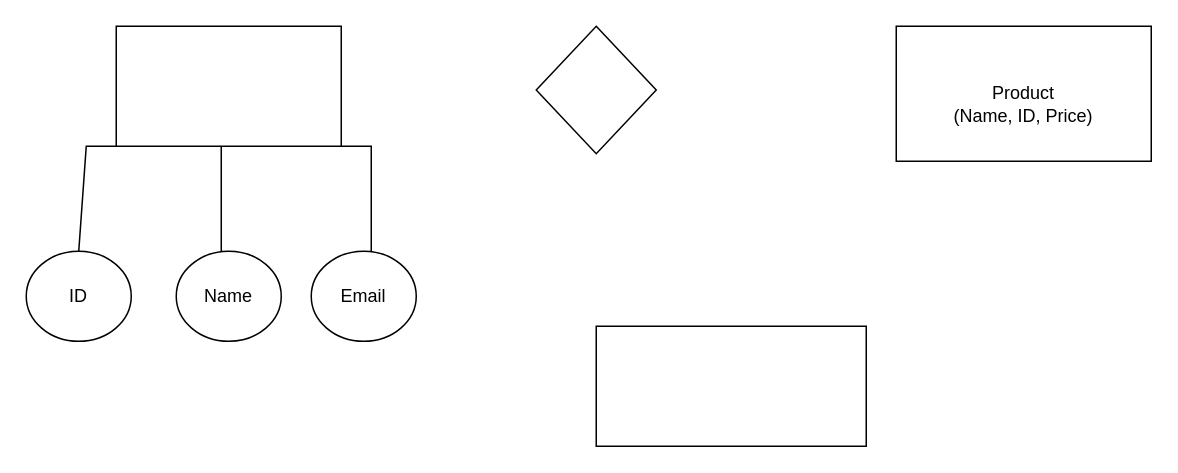
Some shapes in this 1178 by 473 pixel diagram are drawn without their labels. Here are the shapes that lost their labels. From the top down, the centre of each, then its label:
the point at 228,85: Customer
the point at 595,89: Buy
